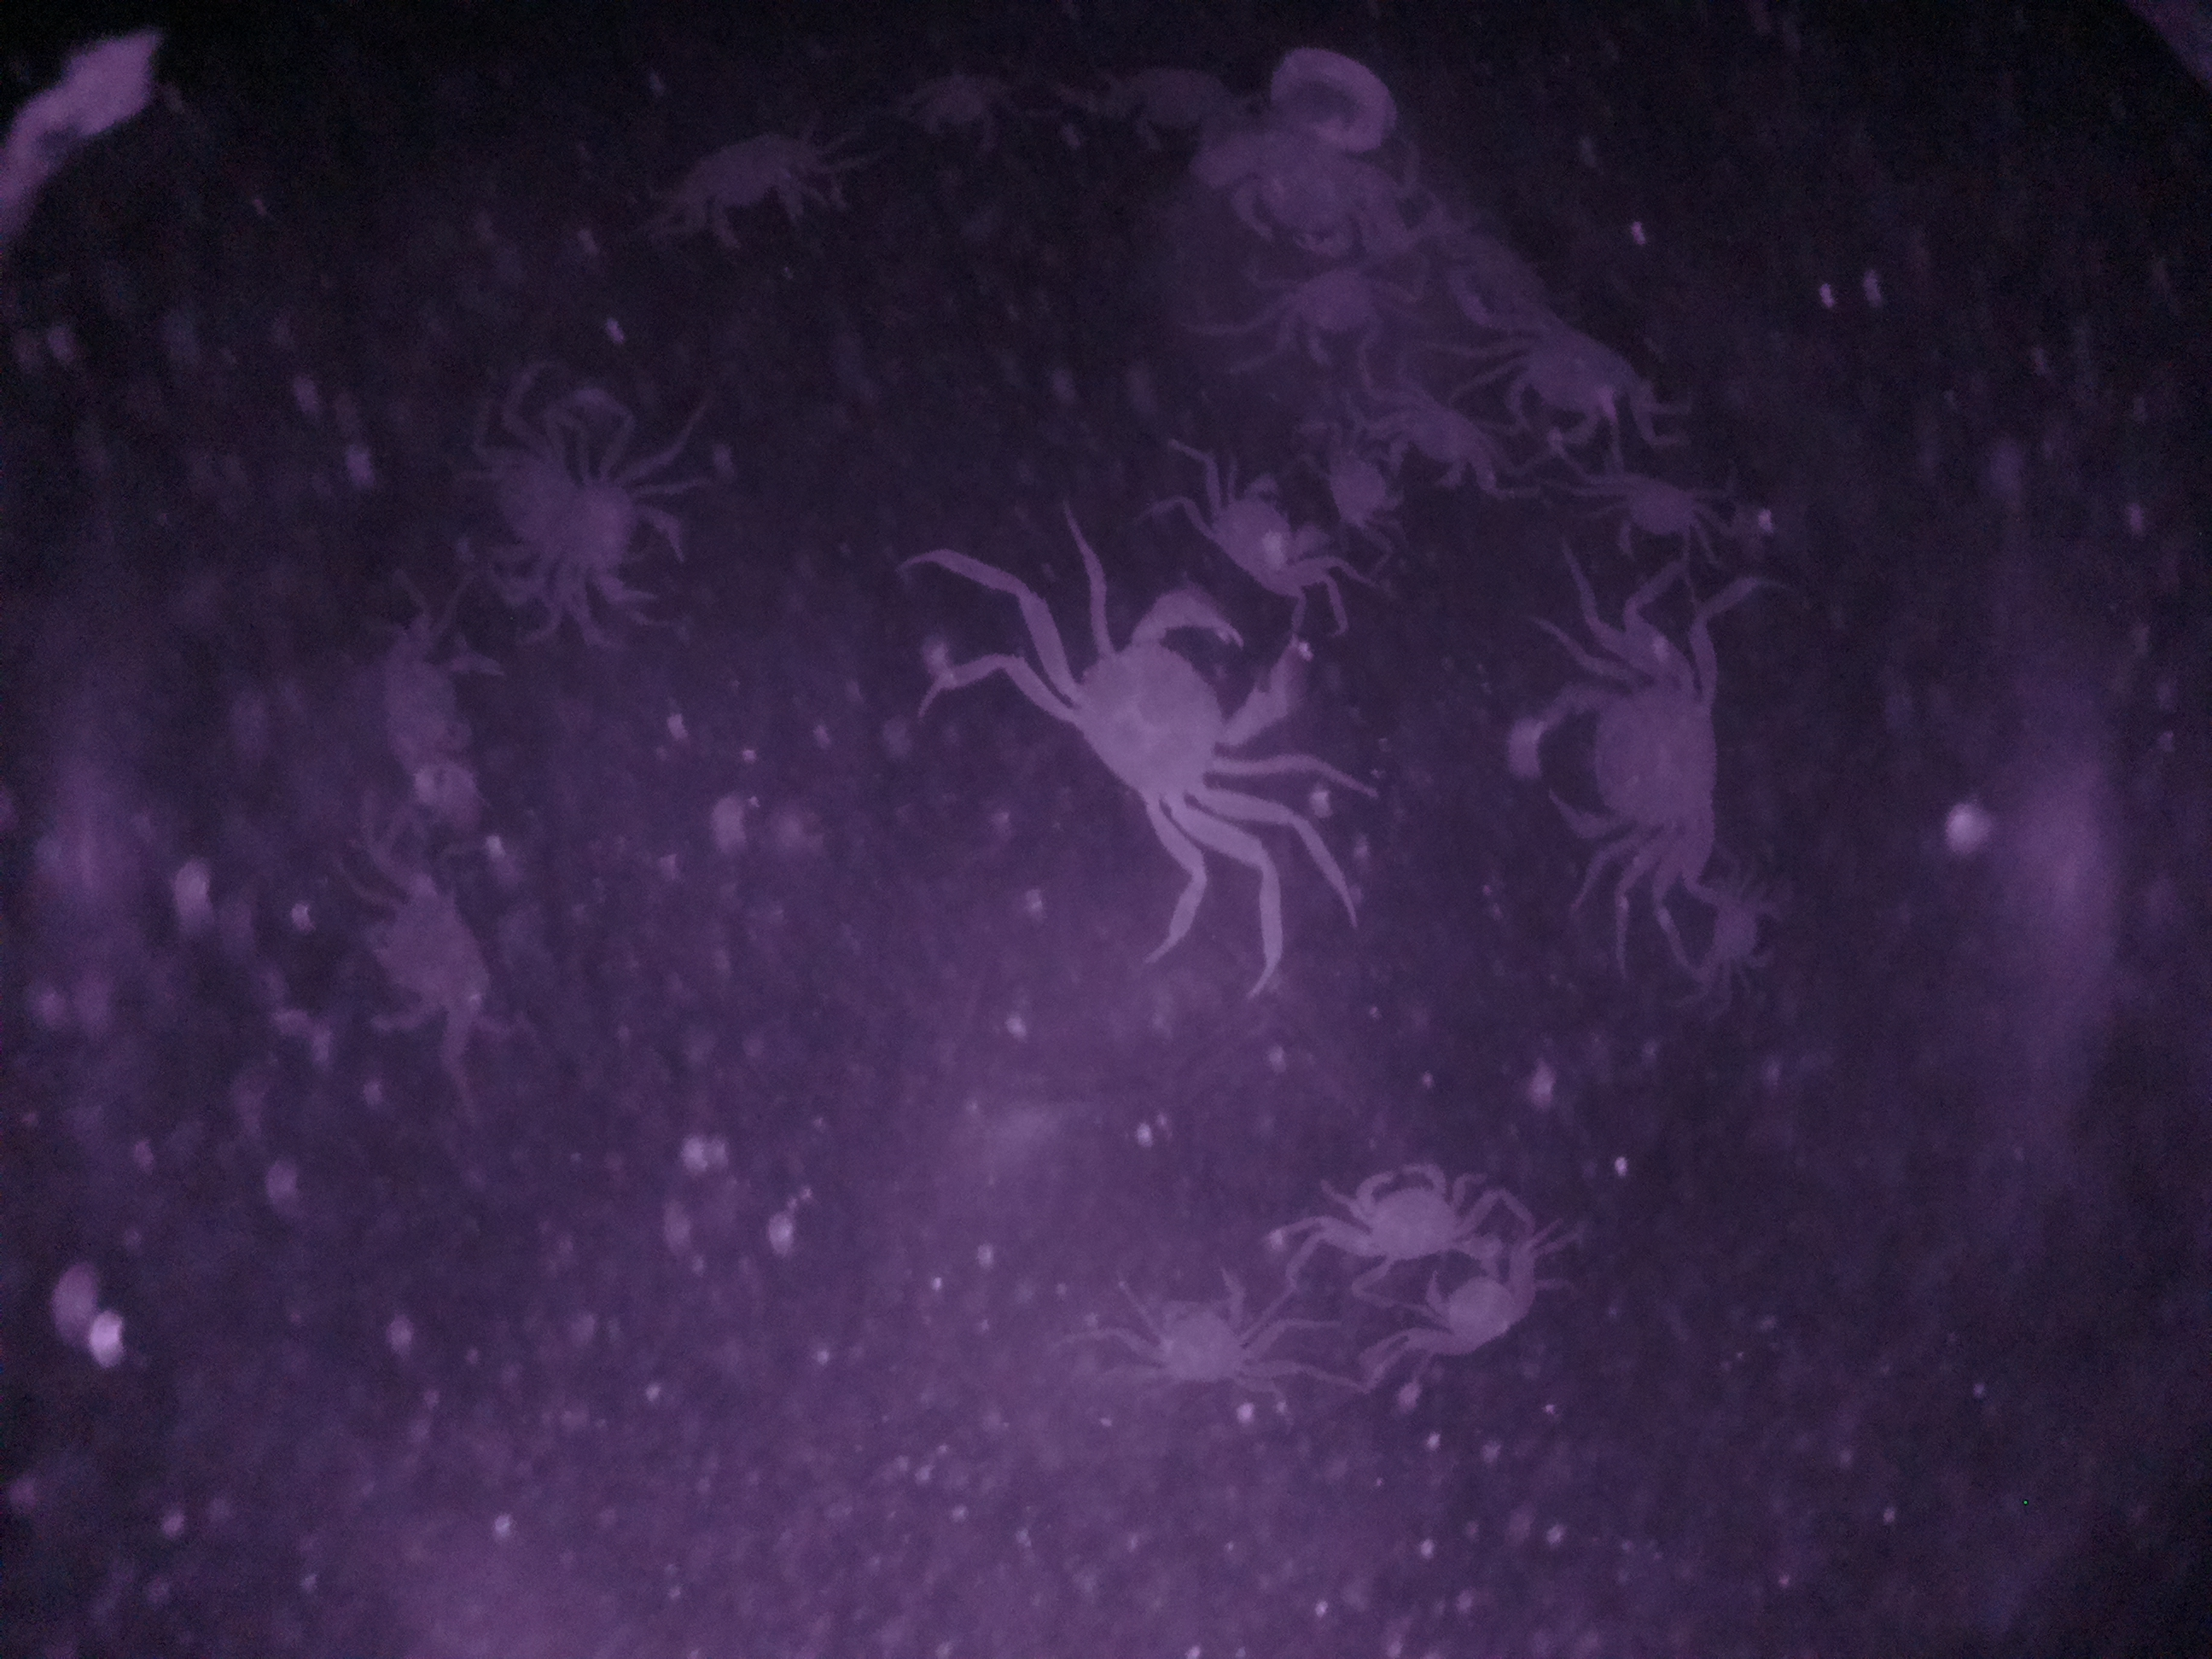Crab: (1029, 596, 1308, 866), (1514, 633, 1738, 899), (1167, 437, 1339, 626), (1487, 293, 1653, 460), (655, 110, 833, 258), (1099, 1265, 1273, 1408), (1313, 1152, 1484, 1288), (1594, 457, 1733, 580)
